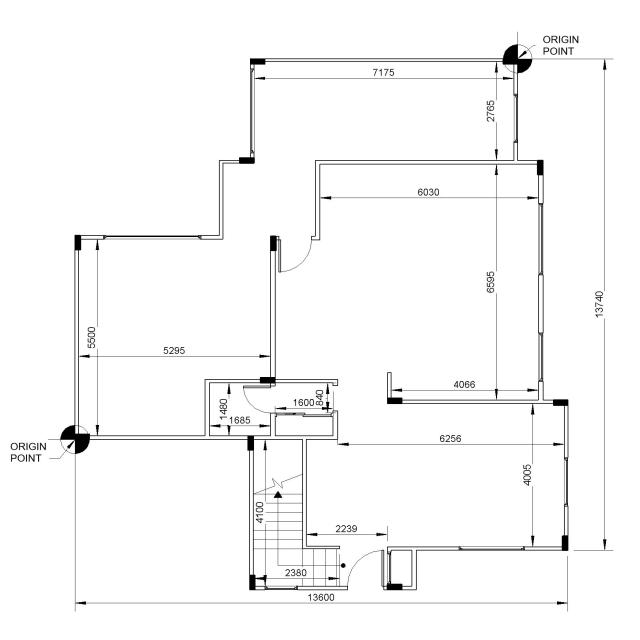Column: (239, 157, 255, 164), (553, 399, 568, 406), (270, 236, 277, 251), (247, 436, 254, 450), (562, 535, 568, 551), (75, 235, 81, 250), (260, 377, 275, 383), (250, 575, 256, 590), (387, 584, 402, 590), (387, 398, 402, 404), (537, 160, 543, 175), (502, 59, 518, 64), (250, 59, 265, 64), (75, 434, 90, 439)
Door: (347, 550, 384, 590), (277, 236, 312, 272), (243, 386, 276, 413)
Sliding Door: (275, 413, 333, 417)
Staircase: (254, 440, 347, 586)
Window: (103, 235, 201, 240), (538, 203, 544, 275), (250, 68, 254, 154), (538, 332, 544, 382), (459, 546, 525, 550), (513, 94, 518, 143), (564, 458, 568, 507), (264, 586, 298, 590), (387, 552, 391, 584)
